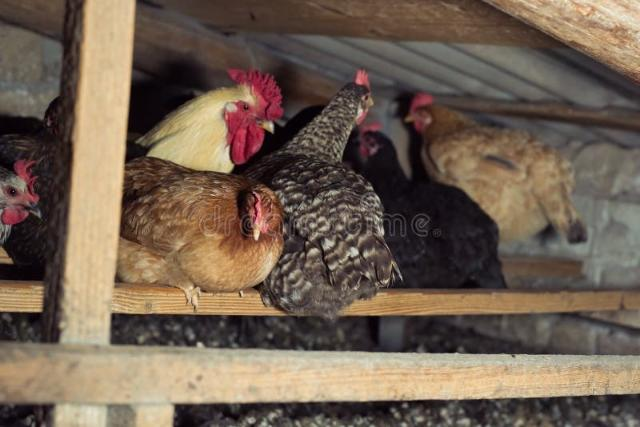Chicken: (243, 63, 401, 319), (404, 90, 590, 246), (358, 123, 508, 290), (118, 153, 288, 299), (134, 64, 284, 176), (0, 151, 54, 253)
